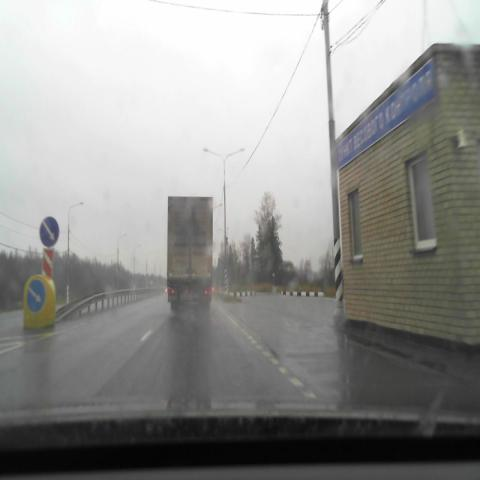4_2_1: (27, 281, 45, 313), (40, 217, 59, 247)
